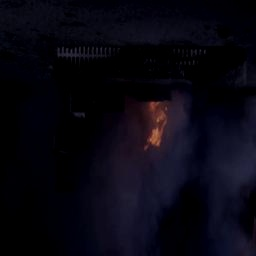fire: (137, 99, 171, 150)
smoke: (18, 154, 233, 256)
